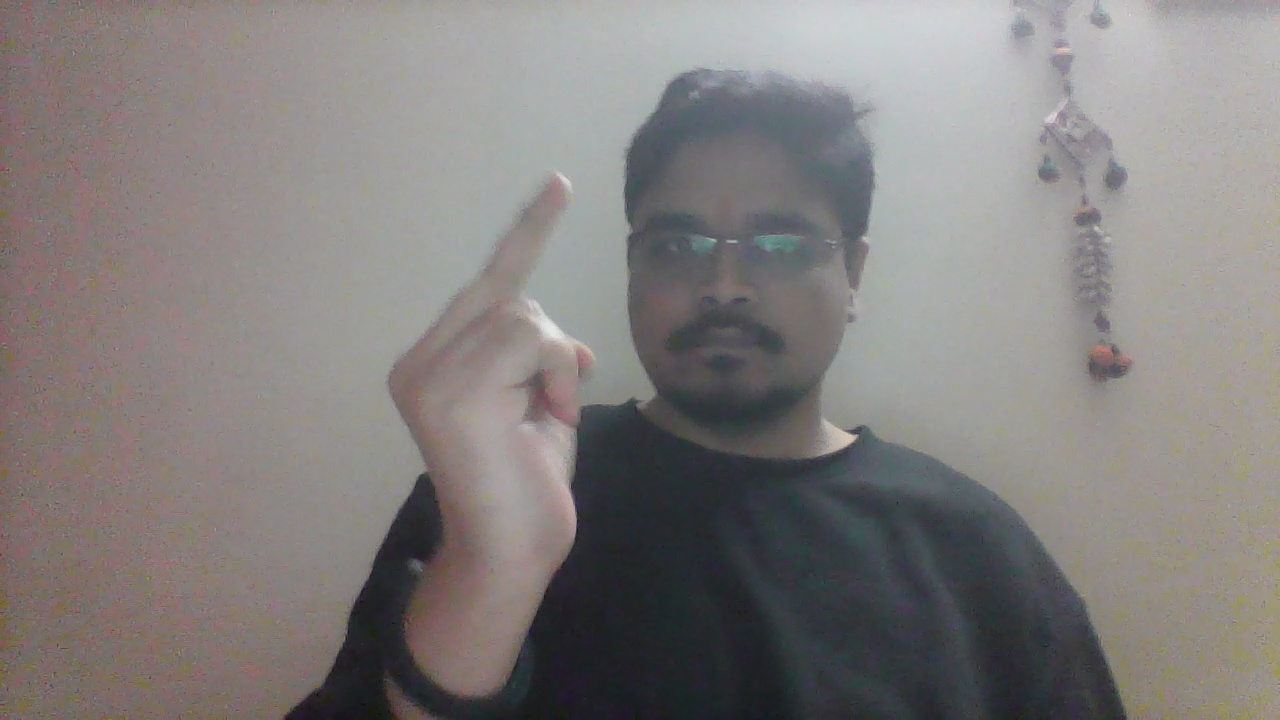Fuck Off: (386, 167, 602, 632)
